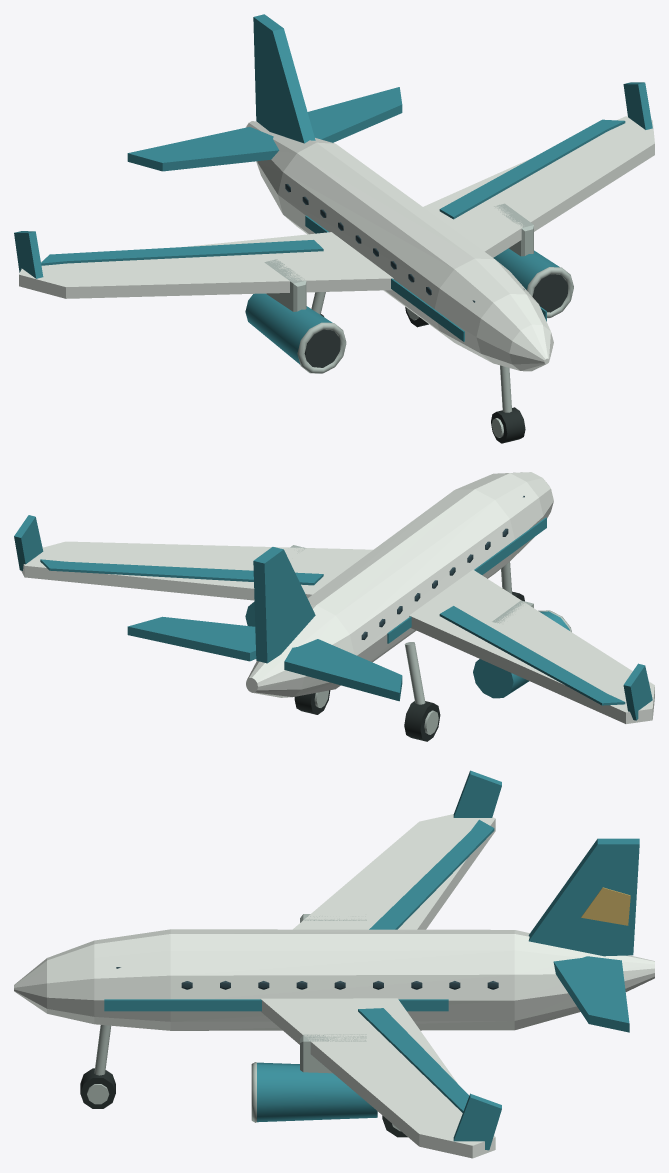
File: airplane.glb
3 renders of one model, top to bottom at view 1: azimuth 30°, elevation 25°; view 2: azimuth 150°, elevation 25°; view 3: azimuth 270°, elevation 25°, orthographic. The views are drawn at different scales.
Visible parts, largest first — view 1: fuselage_ivory, wings_ivory, tailplanes_teal, wing_stripe_teal, tail_fin_teal, engines_teal, engine_intakes_dark, winglets_teal, engine_pylons_chrome, engine_intakes_chrome, livery_teal, wheels_rubber (+1 smaller); view 2: fuselage_ivory, wings_ivory, tailplanes_teal, wing_stripe_teal, tail_fin_teal, winglets_teal, engines_teal, wheels_rubber, livery_teal, landing_gear_chrome, wheels_chrome, cabin_windows_glass; view 3: fuselage_ivory, wings_ivory, tail_fin_teal, wing_stripe_teal, engines_teal, tailplanes_teal, winglets_teal, livery_teal, tail_emblem_gold, engine_pylons_chrome, wheels_rubber, cabin_windows_glass (+1 smaller).
Part boxes in pixels (box(x1,y1,x2,y2)): fuselage_ivory: box(246, 121, 553, 371); wings_ivory: box(19, 116, 654, 298); tailplanes_teal: box(127, 87, 402, 171); wing_stripe_teal: box(41, 119, 625, 265); tail_fin_teal: box(253, 14, 315, 143); engines_teal: box(245, 248, 559, 364); engine_intakes_dark: box(304, 274, 567, 367); winglets_teal: box(14, 82, 652, 278); engine_pylons_chrome: box(264, 203, 533, 311); engine_intakes_chrome: box(297, 267, 573, 373); livery_teal: box(305, 215, 546, 341); wheels_rubber: box(320, 307, 525, 443); fuselage_ivory: box(246, 472, 553, 697); wings_ivory: box(21, 541, 654, 723); tailplanes_teal: box(127, 616, 402, 701); wing_stripe_teal: box(40, 559, 625, 705); tail_fin_teal: box(253, 547, 315, 663); winglets_teal: box(14, 515, 652, 720); engines_teal: box(245, 601, 569, 698); wheels_rubber: box(294, 591, 524, 741); livery_teal: box(387, 517, 546, 643); landing_gear_chrome: box(404, 562, 511, 704); wheels_chrome: box(314, 690, 438, 734); cabin_windows_glass: box(361, 528, 508, 639); fuselage_ivory: box(14, 929, 654, 1030); wings_ivory: box(261, 814, 495, 1158); tail_fin_teal: box(528, 838, 639, 956); wing_stripe_teal: box(358, 819, 494, 1112); engines_teal: box(257, 1062, 377, 1122); tailplanes_teal: box(553, 956, 629, 1032); winglets_teal: box(453, 770, 501, 1150); livery_teal: box(104, 999, 448, 1011); tail_emblem_gold: box(581, 887, 630, 925); engine_pylons_chrome: box(300, 914, 366, 1073); wheels_rubber: box(80, 1068, 407, 1137); cabin_windows_glass: box(181, 981, 498, 989).
Bounding box in the file's own units: 2.4 × 0.8743 × 1.93.
